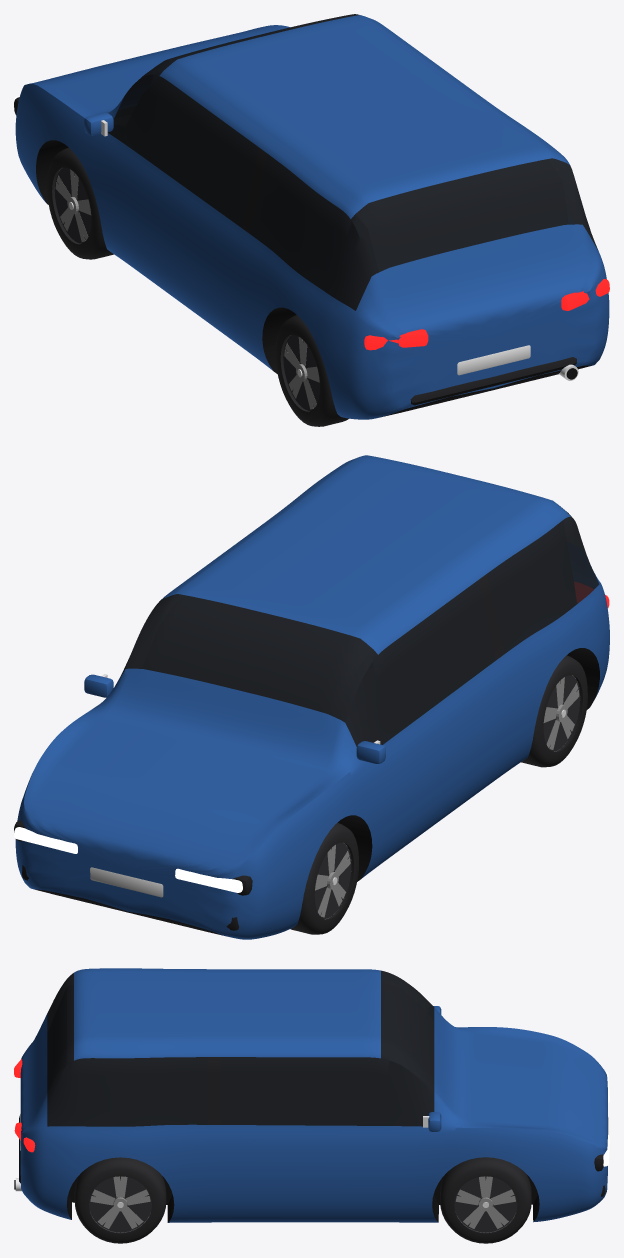
Rendered from traffic_hatch.glb.
The picture shows the model from 3 angles, top to bottom: view 1: azimuth 30°, elevation 25°; view 2: azimuth 150°, elevation 25°; view 3: azimuth 270°, elevation 25°; orthographic projection. The views are drawn at different scales.
Parts seen in each view (by area): view 1: Body, Wheel_RL, Wheel_FL; view 2: Body, Wheel_FL, Wheel_RL; view 3: Body, Wheel_FR, Wheel_RR.
Part boxes in pixels (x1,y1,x2,y2): Body: (14, 14, 609, 419); Wheel_RL: (275, 315, 348, 426); Wheel_FL: (47, 147, 113, 259); Body: (14, 455, 609, 939); Wheel_FL: (290, 822, 358, 934); Wheel_RL: (521, 655, 587, 767); Body: (14, 968, 609, 1222); Wheel_FR: (440, 1157, 531, 1243); Wheel_RR: (74, 1157, 166, 1243).
Bounding box in the file's own units: 1.91 × 1.48 × 4.16.
